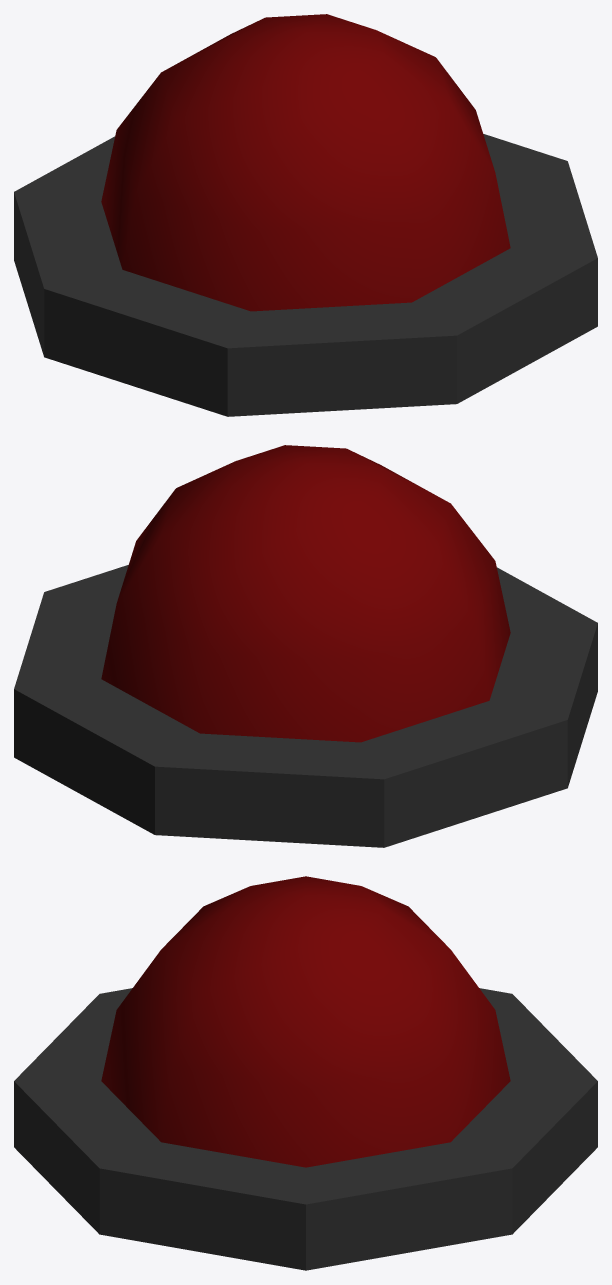
File: light.fbx
The picture shows the model from 3 angles, top to bottom: view 1: azimuth 30°, elevation 25°; view 2: azimuth 150°, elevation 25°; view 3: azimuth 270°, elevation 25°; orthographic projection. The views are drawn at different scales.
Visible parts, largest first — view 1: pSphere1, pCylinder1; view 2: pSphere1, pCylinder1; view 3: pSphere1, pCylinder1.
Boxes of the visible parts, x1,y1,x2,y2 form: pSphere1: (101,14,510,311); pCylinder1: (14,134,597,416); pSphere1: (101,445,510,742); pCylinder1: (14,565,597,847); pSphere1: (101,876,510,1167); pCylinder1: (14,988,597,1270).
Bounding box in the file's own units: 2 × 0.9521 × 2.
